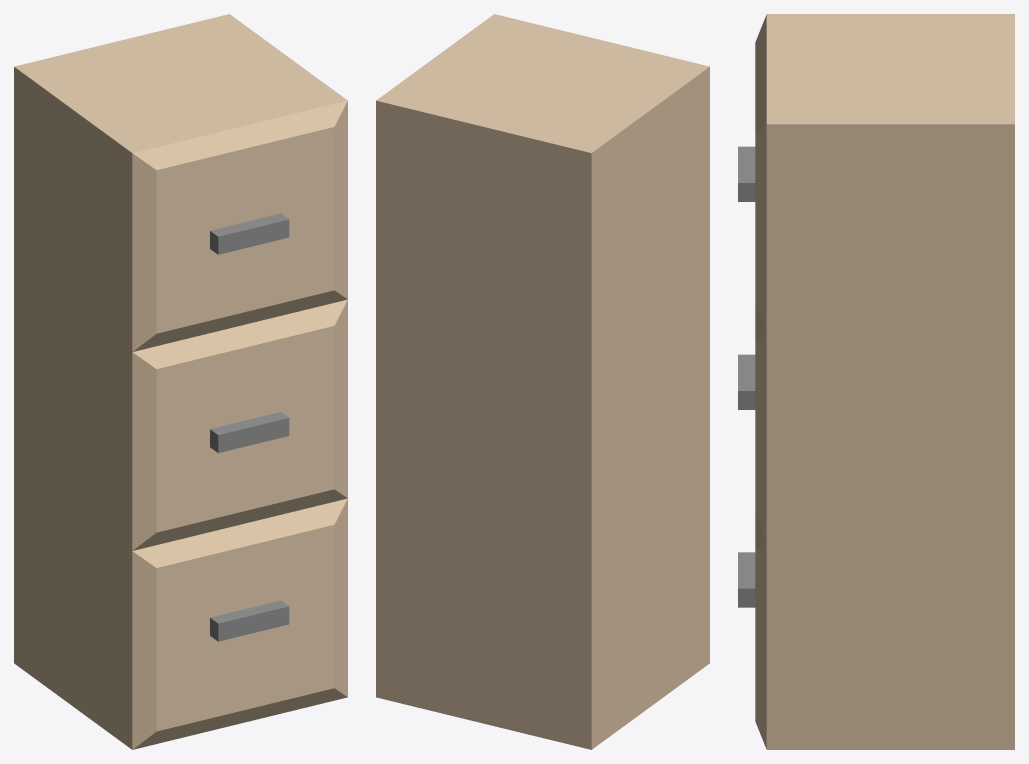
Rendered from Arquivo.fbx.
3 views of the same model, side by side, from view 1: azimuth 30°, elevation 25°; view 2: azimuth 150°, elevation 25°; view 3: azimuth 270°, elevation 25° (orthographic). The views are drawn at different scales.
Visible parts, largest first — view 1: Cubo.014; view 2: Cubo.014; view 3: Cubo.014.
Boxes of the visible parts, left/top/right/bottom form: Cubo.014: left=14, top=14, right=347, bottom=749; Cubo.014: left=376, top=14, right=709, bottom=749; Cubo.014: left=738, top=14, right=1014, bottom=749.
Bounding box in the file's own units: 95.7 × 253 × 101.
